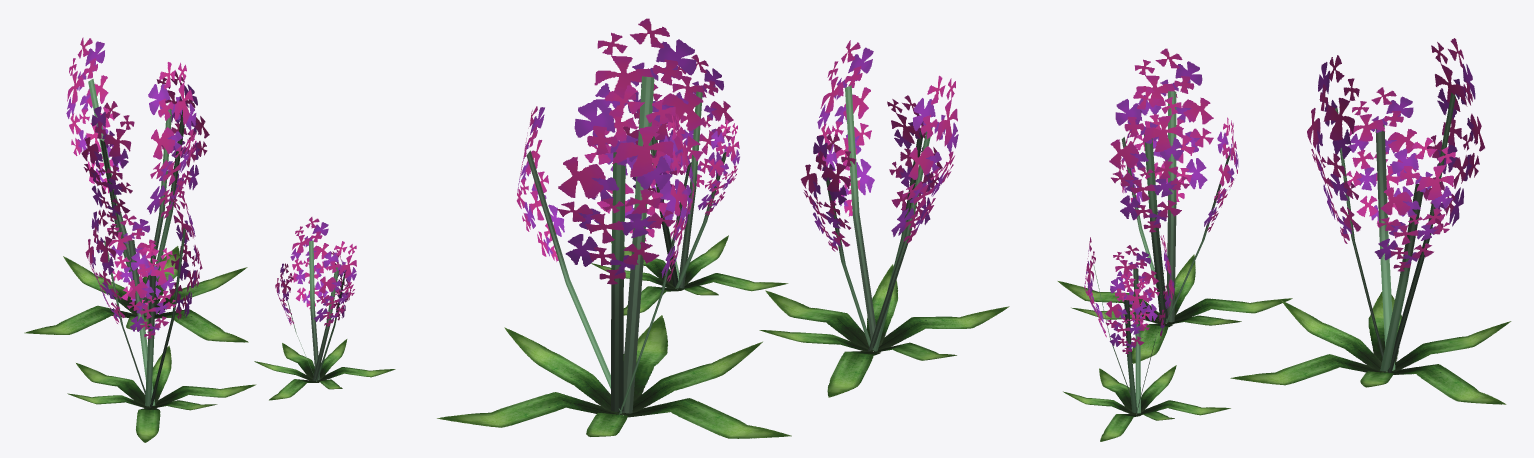
The model's file is Magenta_flower.fbx.
The picture shows the model from 3 angles, left to right: view 1: azimuth 30°, elevation 25°; view 2: azimuth 150°, elevation 25°; view 3: azimuth 270°, elevation 25°; orthographic projection. The views are drawn at different scales.
Visible parts, largest first — view 1: Magenta_flower; view 2: Magenta_flower; view 3: Magenta_flower.
Part boxes in pixels (bbox=[...]): Magenta_flower: bbox=[24, 37, 395, 442]; Magenta_flower: bbox=[437, 18, 1009, 438]; Magenta_flower: bbox=[1057, 38, 1511, 441].
Size of the model in its own units: 449 by 403 by 521.
